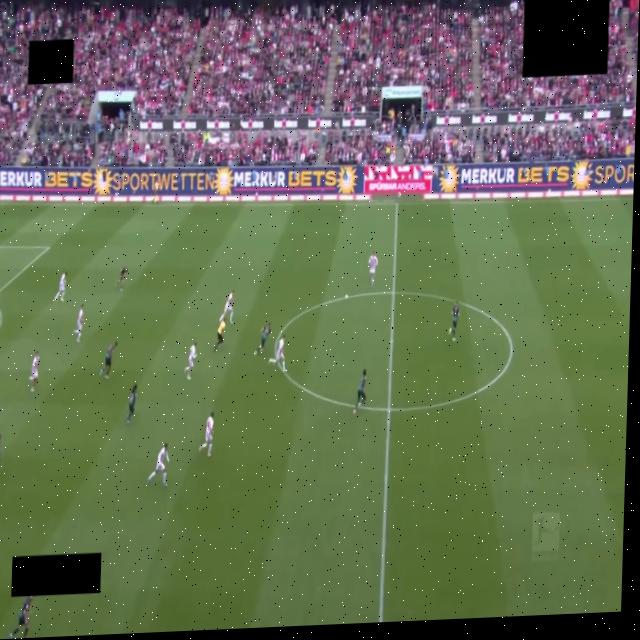ball: (345, 294, 349, 299)
player: (9, 597, 34, 638), (148, 443, 168, 487), (199, 412, 213, 457), (269, 335, 286, 372), (100, 341, 117, 378), (353, 369, 366, 414), (254, 323, 271, 355), (220, 290, 234, 324), (185, 343, 196, 380), (126, 385, 136, 425), (74, 304, 84, 342), (449, 302, 459, 340), (29, 351, 38, 391), (55, 272, 67, 301), (369, 251, 378, 286), (116, 267, 128, 290), (0, 424, 1, 480)
referee: (214, 319, 226, 350)
